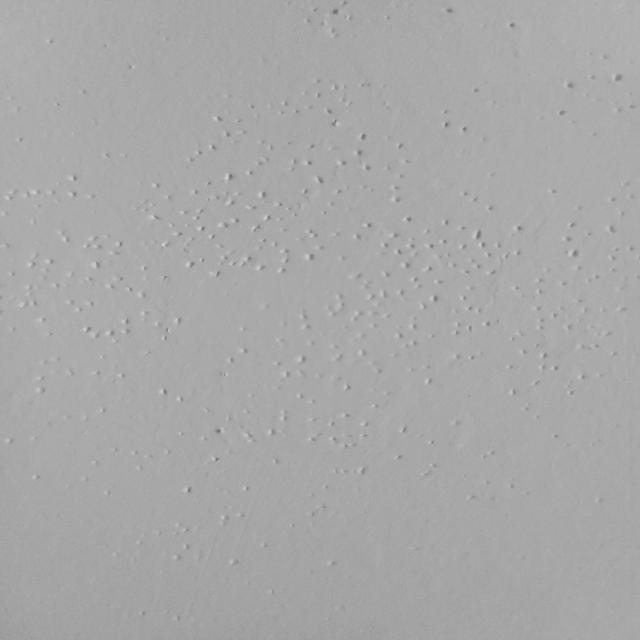rough and patchy surface: (20, 2, 630, 577)
